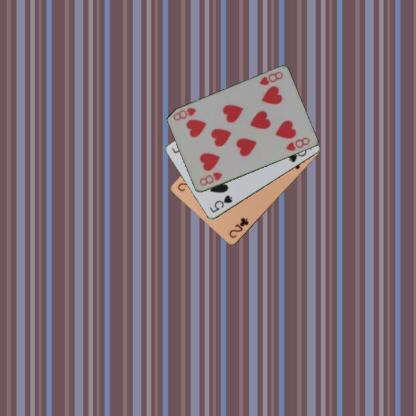2c: (227, 215, 250, 239)
5s: (207, 192, 233, 214)
8h: (257, 68, 284, 86), (196, 170, 224, 187)
